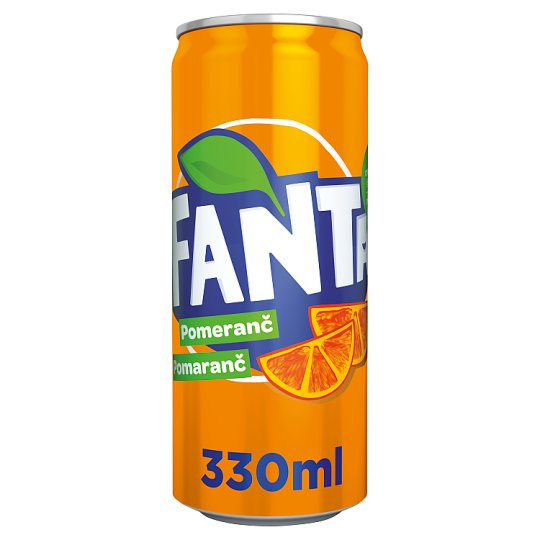Fanta: (156, 16, 388, 522)
